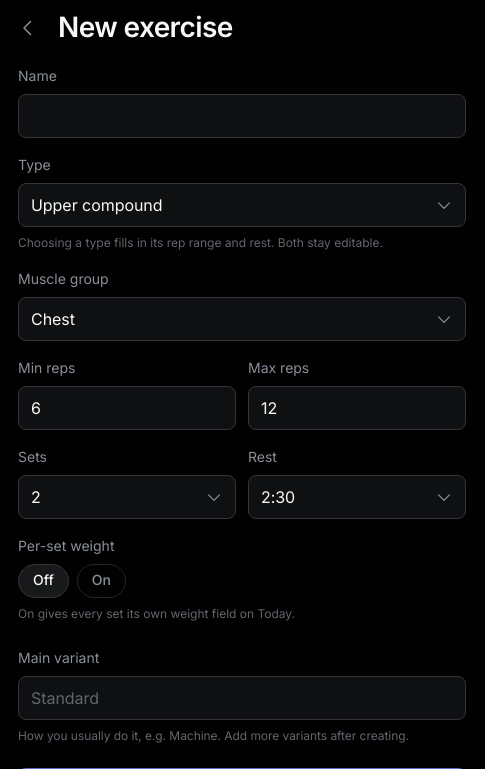
Test case: New exercise › choosing a type fills in its rep range and rest (SPEC 4.1)
Expected: the dropdown labelled "Sets" shows "2", [18, 475, 236, 519]
Select "Leg compound" in the dropdown labelled "Type" at {"x": 242, "y": 205}, box [18, 183, 466, 227]
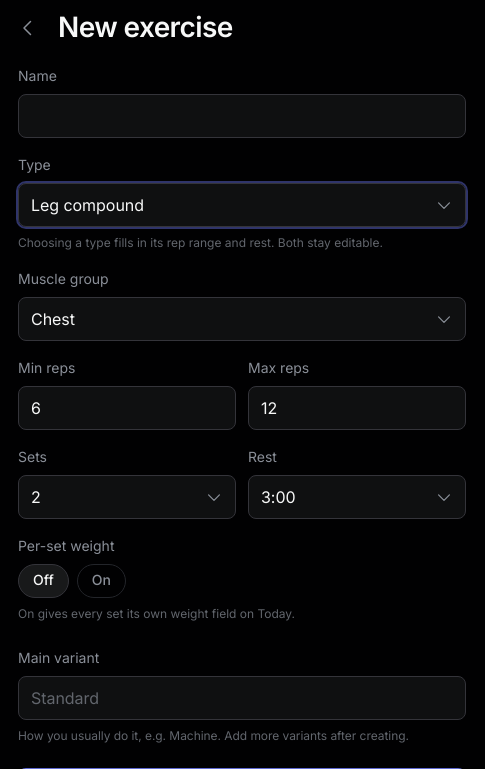
Expected: the field labelled "Min reps" holds "6", [18, 386, 236, 430]
Expected: the dropdown labelled "Rest" shows "3:00", [248, 475, 466, 519]
Select "Small isolation" in the dropdown labelled "Type" at {"x": 242, "y": 205}, box [18, 183, 466, 227]
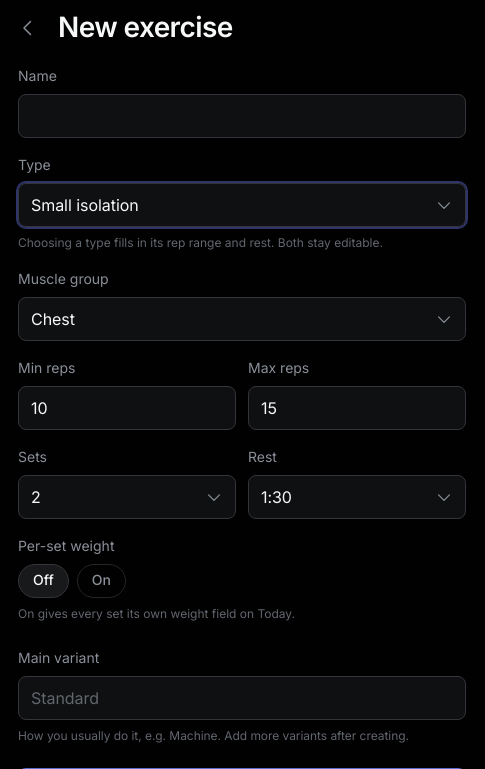
Expected: the field labelled "Min reps" holds "10", [18, 386, 236, 430]
Expected: the field labelled "Max reps" holds "15", [248, 386, 466, 430]
Expected: the dropdown labelled "Rest" shows "1:30", [248, 475, 466, 519]
